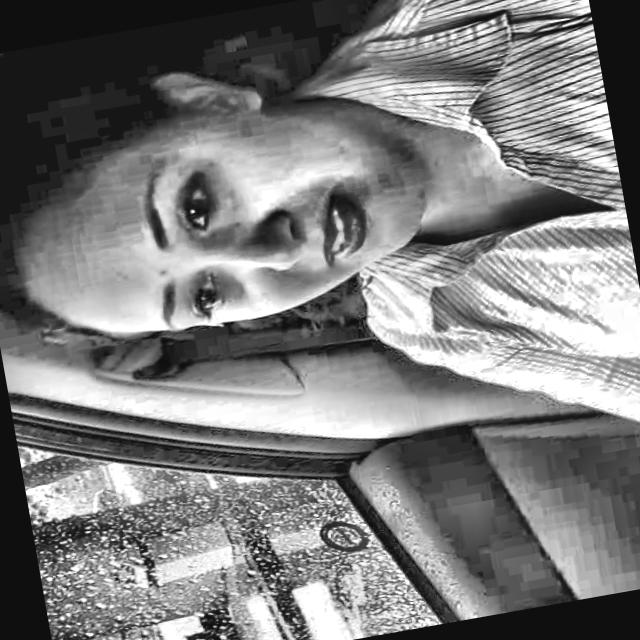closed_mouth: (307, 173, 396, 281)
open_eyes: (163, 163, 230, 238), (178, 264, 235, 334)
